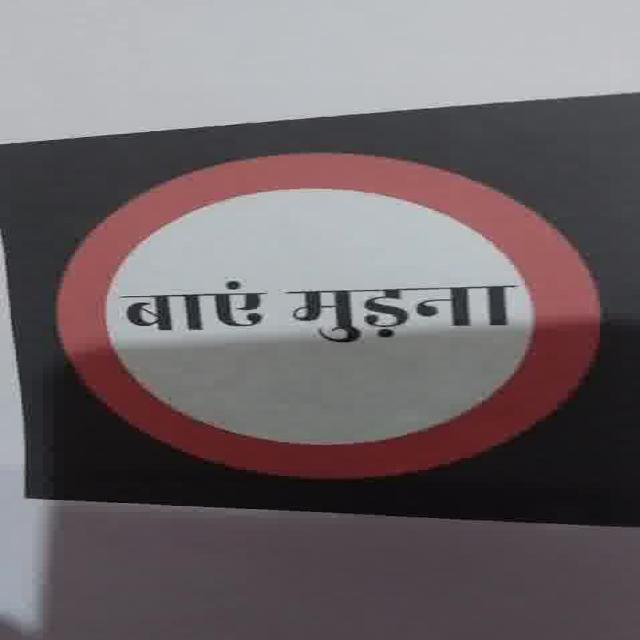hindileft: (53, 149, 602, 480), (116, 280, 521, 342), (76, 259, 282, 364)
